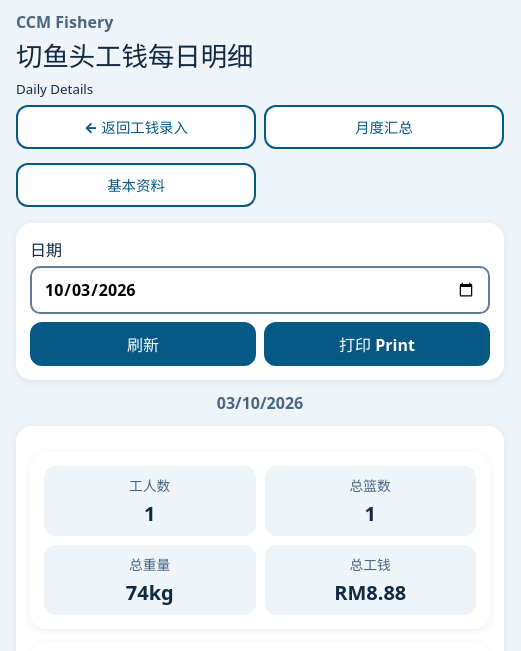
Test case: 切鱼头工钱当日汇总 › 打印异常显示可理解错误，可以直接重按打印且保留同步 user gesture
Click the button "打印 Print": (377, 344) [264, 322, 490, 366]
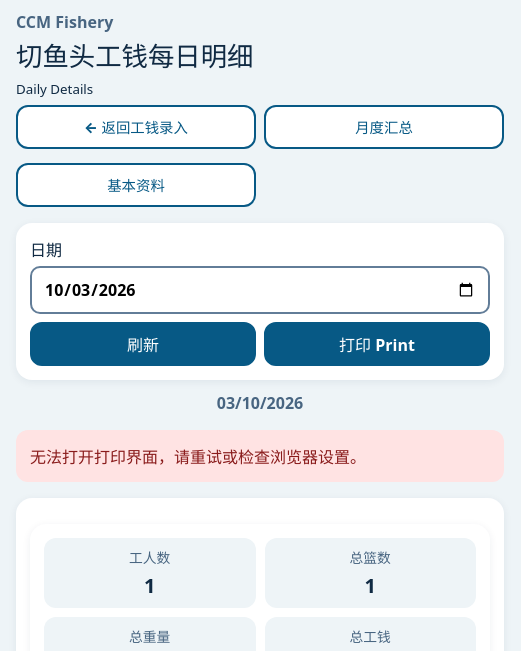
Result: the message reads "无法打开打印界面，请重试或检查浏览器设置。" at [30, 446, 366, 468]
Click the button "打印 Print": (377, 344) [264, 322, 490, 366]
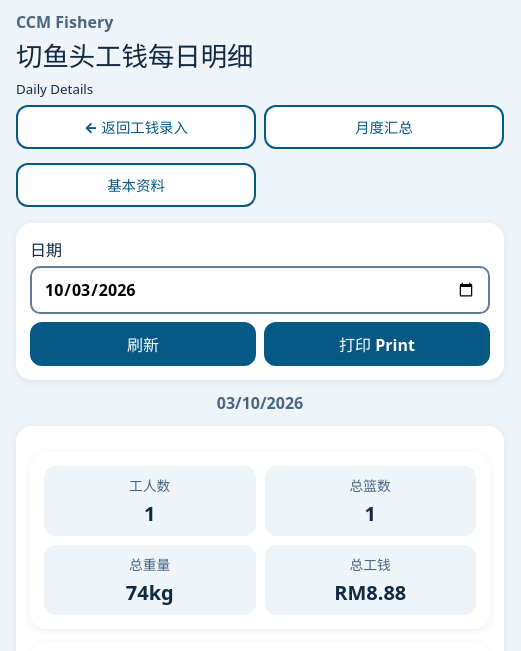
Result: the message "无法打开打印界面，请重试或检查浏览器设置。" is gone
